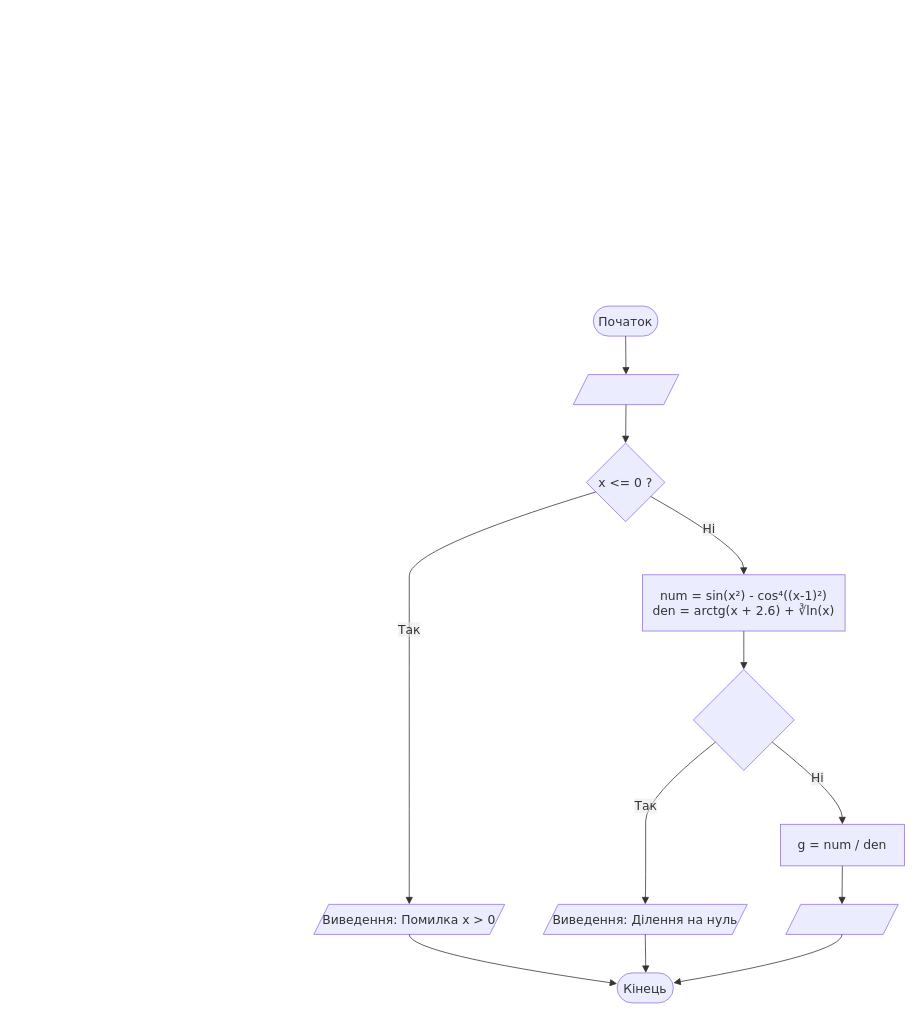
Image size: 918x1016. Some labels were removed from this diagram. The shapes that lost their labels are listed below. From the top down, each one's centre as x and y in pixels, then its label:
At point (625, 389): "Введення x".
At point (743, 719): "den == 0 ?".
At point (841, 919): "Виведення g".
